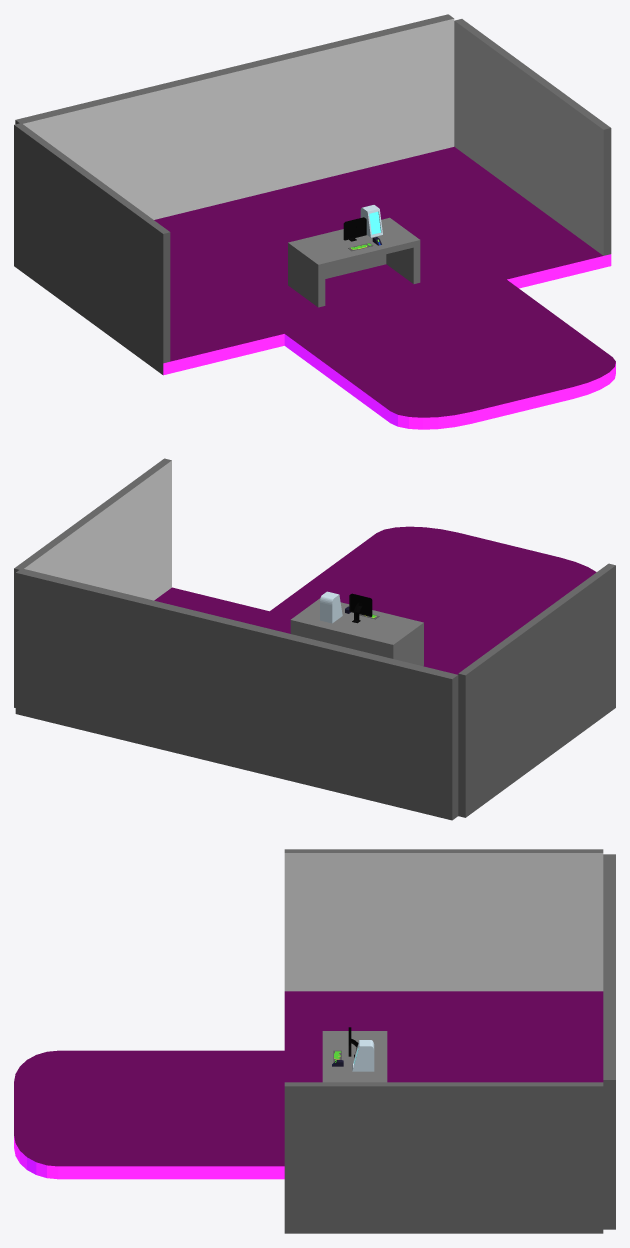
File: arenalowpoly.glb
3 renders of one model, top to bottom at view 1: azimuth 30°, elevation 25°; view 2: azimuth 150°, elevation 25°; view 3: azimuth 270°, elevation 25°, orthographic. The views are drawn at different scales.
Visible parts, largest first — view 1: Cube, Cube.001; view 2: Cube, Cube.001, Cube.003, Cube.004; view 3: Cube, Cube.001, Cube.003.
Part boxes in pixels (<box>): Cube: <box>14,14,615,429</box>; Cube.001: <box>288,217,420,307</box>; Cube: <box>14,458,615,820</box>; Cube.001: <box>290,598,423,665</box>; Cube.003: <box>320,591,342,623</box>; Cube.004: <box>349,593,372,623</box>; Cube: <box>14,849,615,1233</box>; Cube.001: <box>322,1031,387,1082</box>; Cube.003: <box>352,1040,374,1071</box>.
Bounding box in the file's own units: 10.35 × 3.12 × 11.28.
